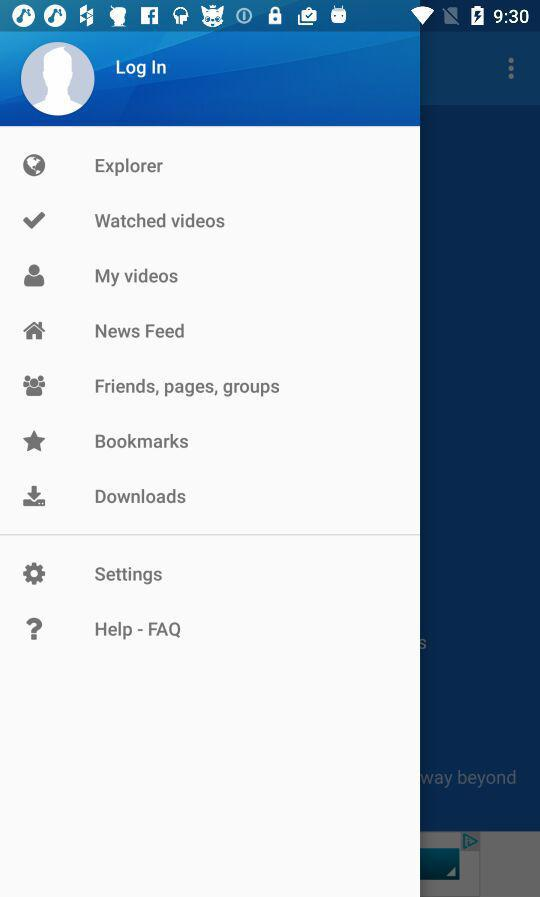Drawer: (1, 33, 420, 897)
Icon: (21, 42, 96, 118), (23, 562, 47, 586), (22, 430, 47, 453), (23, 485, 47, 508), (23, 375, 47, 397), (24, 264, 46, 288), (23, 321, 47, 342), (23, 212, 47, 231), (26, 617, 44, 641), (507, 57, 514, 81)
Image: (23, 154, 47, 178)
Text: (95, 378, 281, 399), (95, 212, 226, 230), (95, 620, 182, 641), (95, 268, 180, 288), (95, 433, 190, 450), (96, 488, 188, 505), (95, 323, 186, 340), (96, 157, 165, 178), (94, 566, 164, 586), (116, 59, 168, 80)
UpperTaskBar: (1, 1, 540, 33)
